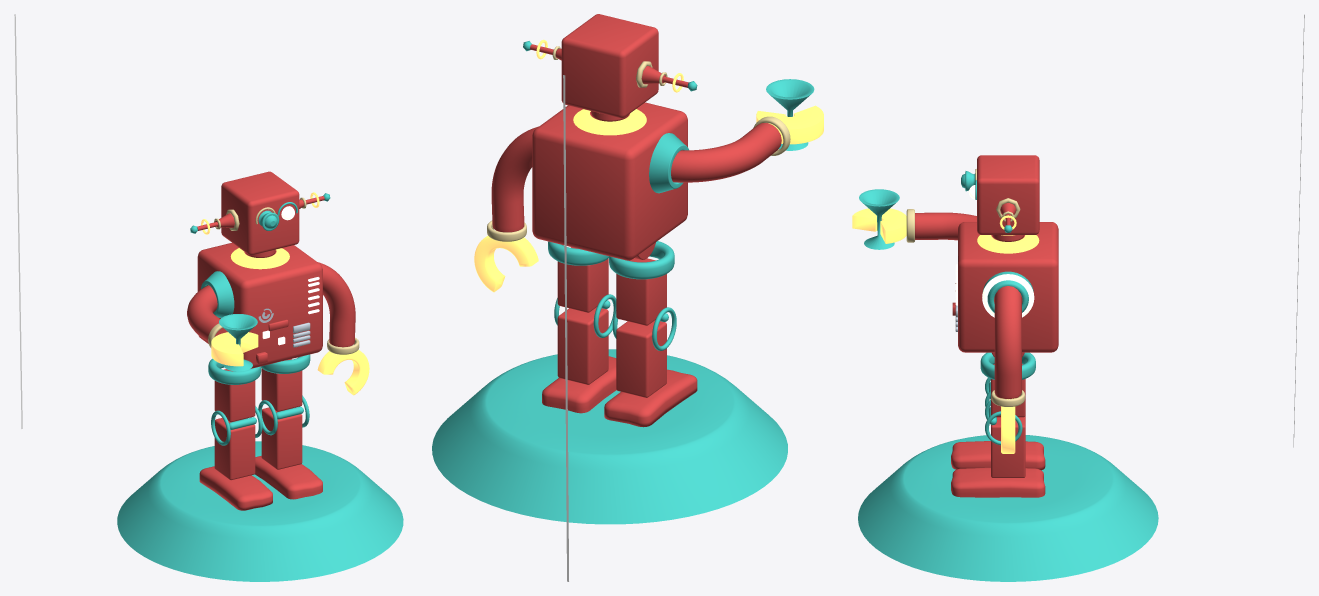
The picture shows the model from 3 angles, left to right: view 1: azimuth 30°, elevation 25°; view 2: azimuth 150°, elevation 25°; view 3: azimuth 270°, elevation 25°; orthographic projection. The views are drawn at different scales.
Visible parts, largest first — view 1: Stand, Body, Head, Shin_2, Shin, Arm, Foot_2, Foot, Leg, Leg_2, Arm_2, Hand_2 (+8 smaller); view 2: Stand, Body, Head, Arm_2, Shin_2, Shin, Arm, Foot_2, Leg_2, Leg, Foot, Hand (+10 smaller); view 3: Stand, Body, Head, Arm, Foot, Foot_2, Shin, Arm_2, Hand_2, Lathe, Neckbase, Hand (+3 smaller).
Part boxes in pixels (left/top/right/bottom): Stand: left=117, top=441, right=403, bottom=581; Body: left=197, top=243, right=322, bottom=368; Head: left=221, top=171, right=299, bottom=255; Shin_2: left=214, top=418, right=255, bottom=480; Shin: left=261, top=407, right=302, bottom=469; Arm: left=318, top=262, right=355, bottom=347; Foot_2: left=199, top=466, right=272, bottom=510; Foot: left=255, top=456, right=322, bottom=499; Leg: left=261, top=359, right=302, bottom=411; Leg_2: left=214, top=369, right=255, bottom=422; Arm_2: left=187, top=285, right=227, bottom=341; Hand_2: left=211, top=332, right=258, bottom=366; Stand: left=432, top=349, right=787, bottom=524; Body: left=532, top=102, right=687, bottom=260; Head: left=561, top=14, right=658, bottom=118; Arm_2: left=671, top=123, right=781, bottom=182; Shin_2: left=616, top=320, right=666, bottom=397; Shin: left=557, top=307, right=608, bottom=384; Arm: left=491, top=126, right=538, bottom=232; Foot_2: left=604, top=369, right=697, bottom=427; Leg_2: left=616, top=258, right=666, bottom=325; Leg: left=557, top=247, right=608, bottom=312; Foot: left=542, top=356, right=616, bottom=413; Hand: left=474, top=235, right=538, bottom=292; Stand: left=858, top=435, right=1158, bottom=581; Body: left=958, top=222, right=1058, bottom=352; Head: left=977, top=155, right=1039, bottom=234; Arm: left=994, top=286, right=1021, bottom=398; Foot: left=951, top=467, right=1045, bottom=497; Foot_2: left=951, top=441, right=1045, bottom=470; Shin: left=991, top=416, right=1025, bottom=477; Arm_2: left=915, top=212, right=976, bottom=240; Hand_2: left=852, top=208, right=906, bottom=243; Lathe: left=859, top=189, right=899, bottom=249; Neckbase: left=977, top=235, right=1039, bottom=253; Hand: left=1001, top=398, right=1015, bottom=453.
Size of the model in its own units: 20.06 by 33.17 by 30.16.
